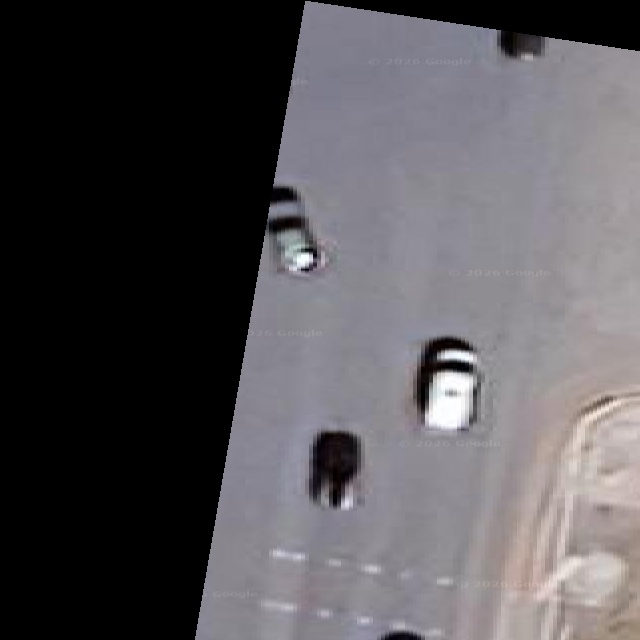car: (416, 337, 480, 431), (268, 186, 324, 274), (309, 431, 361, 509), (499, 31, 543, 59), (380, 630, 422, 639)
